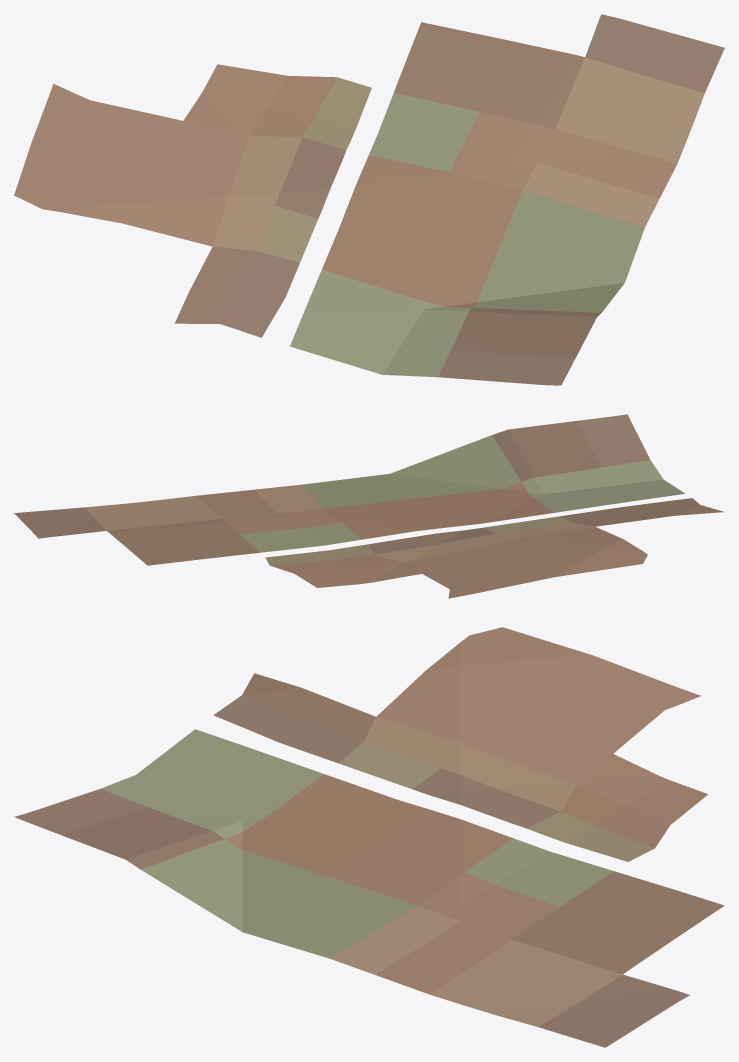
The model's file is farm_-24_-20_soil.glb.
The picture shows the model from 3 angles, top to bottom: view 1: azimuth 30°, elevation 25°; view 2: azimuth 150°, elevation 25°; view 3: azimuth 270°, elevation 25°; orthographic projection. The views are drawn at different scales.
Parts seen in each view (by area): view 1: geometry_0; view 2: geometry_0; view 3: geometry_0.
Part boxes in pixels (x1,y1,x2,y2): geometry_0: (14, 14, 724, 385); geometry_0: (14, 414, 723, 598); geometry_0: (14, 627, 724, 1047).
Size of the model in its own units: 301 by 38.21 by 261.
